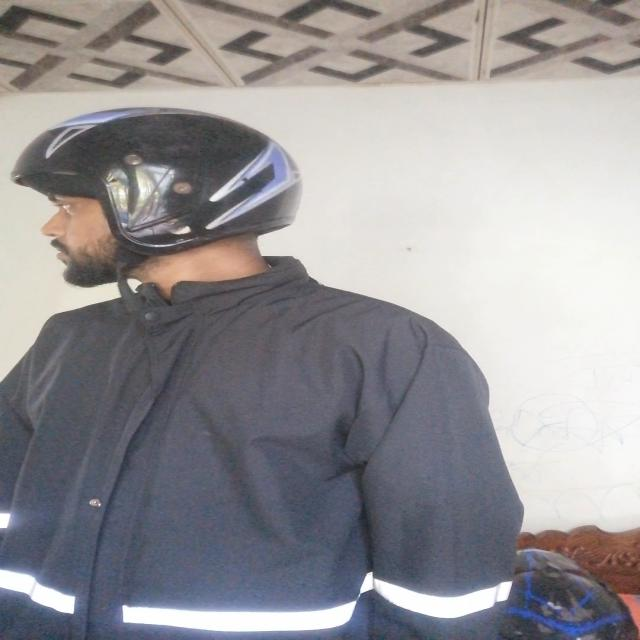Helmet_Wearer: (13, 100, 304, 282)
Jacket_Wearer: (8, 263, 530, 640)
Person: (1, 97, 502, 640)
